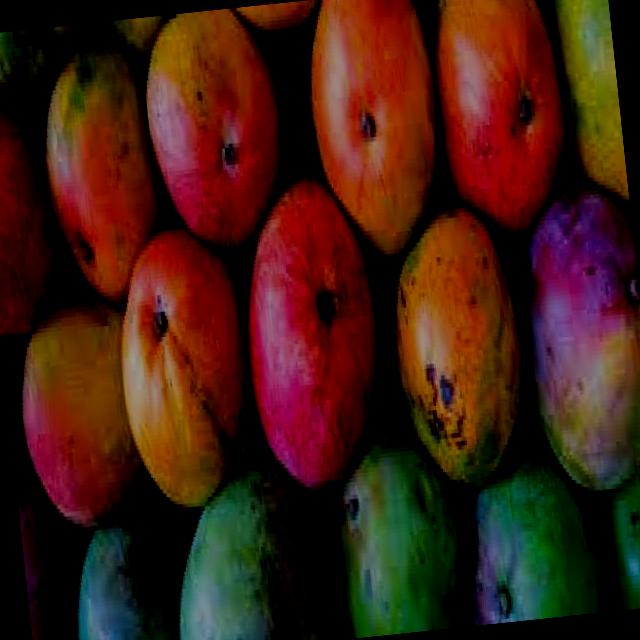Mango: (229, 170, 394, 497), (503, 177, 640, 500), (109, 216, 258, 502), (30, 32, 180, 314), (130, 5, 294, 256), (378, 200, 527, 474), (419, 0, 576, 243), (298, 0, 444, 248), (322, 418, 475, 640), (166, 456, 340, 640), (11, 297, 148, 530), (451, 438, 602, 620), (531, 0, 628, 203), (0, 52, 61, 333), (63, 513, 190, 640), (15, 459, 88, 640), (589, 464, 640, 611)
